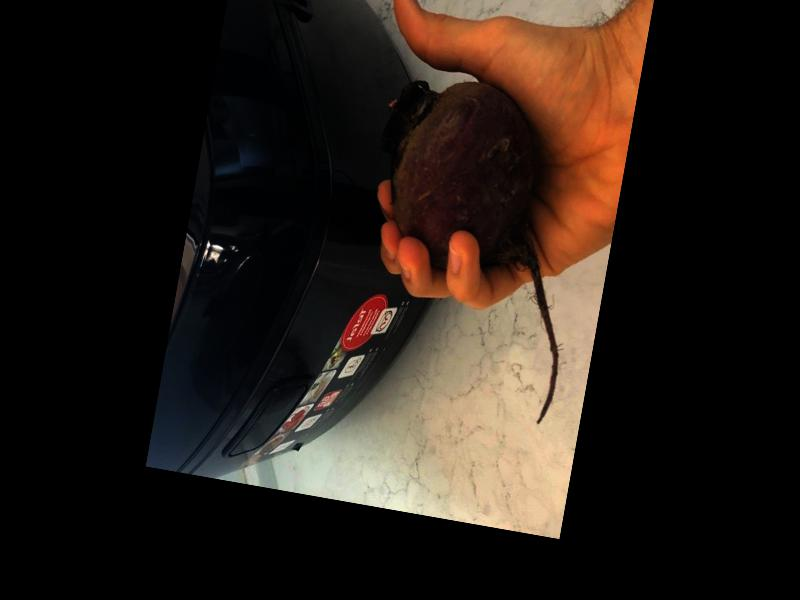Beet: (338, 68, 605, 426)
